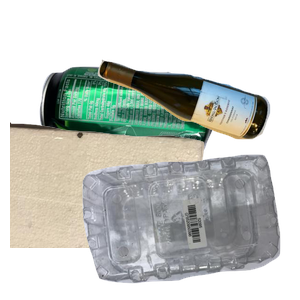glass: (95, 57, 300, 189)
metal: (37, 64, 245, 214)
plastic: (80, 152, 300, 300)
trash: (10, 120, 207, 300)
